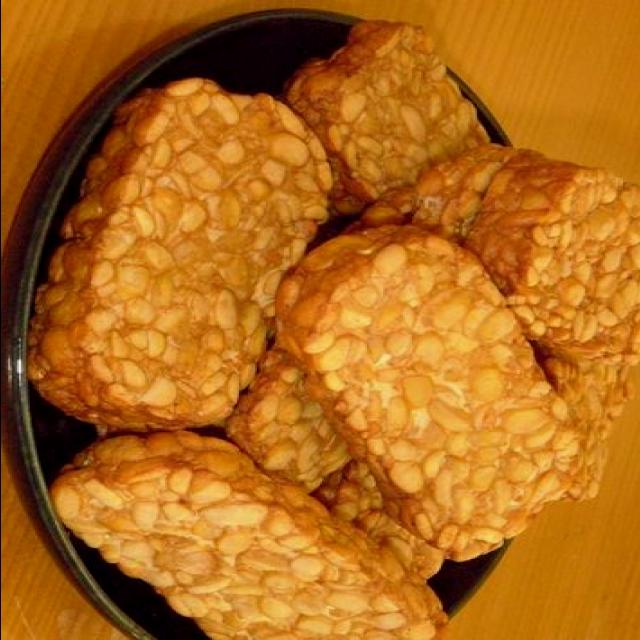tempe goreng: (25, 78, 330, 432), (272, 224, 581, 562), (45, 428, 447, 640)
